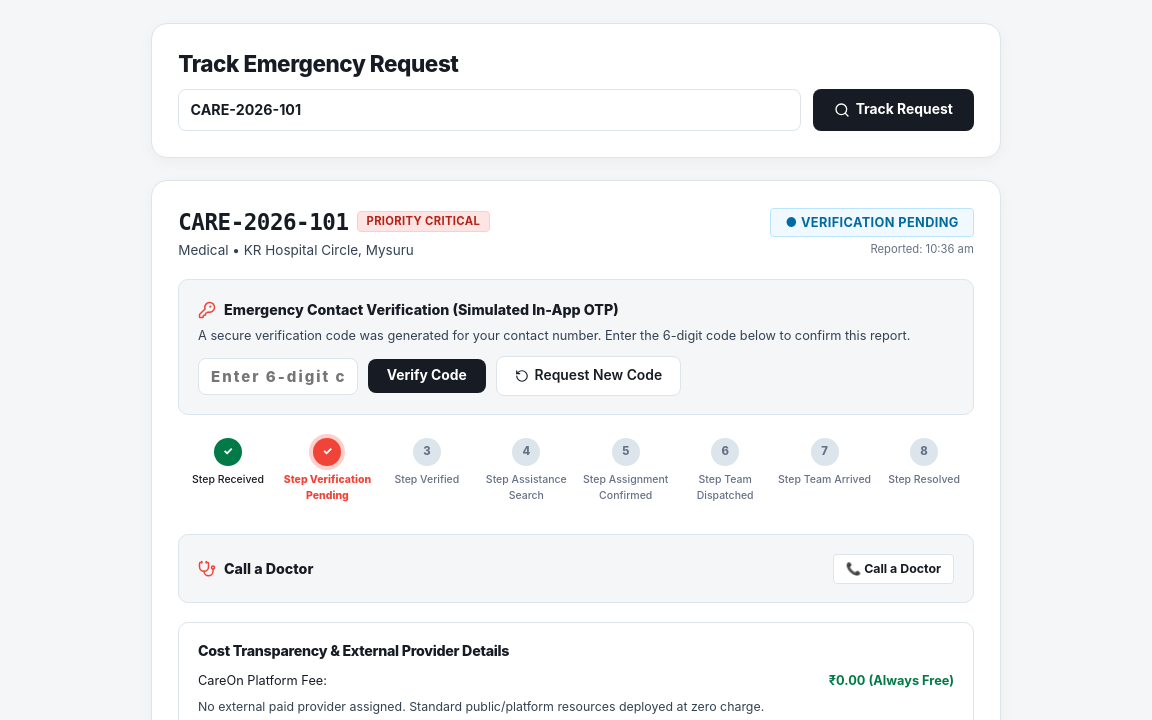
Test case: Stage 6 — Citizen Experience: Simulated OTP, Doctor Callbacks & Helpline › allows requesting a fresh simulated verification code via requestIncidentOtp
Check: the text "Emergency Contact Verification (Simulated In-App OTP)" is shown, box [224, 299, 619, 321]
Click the button "Request New Code". click: (588,376)
box: [496, 356, 681, 396]
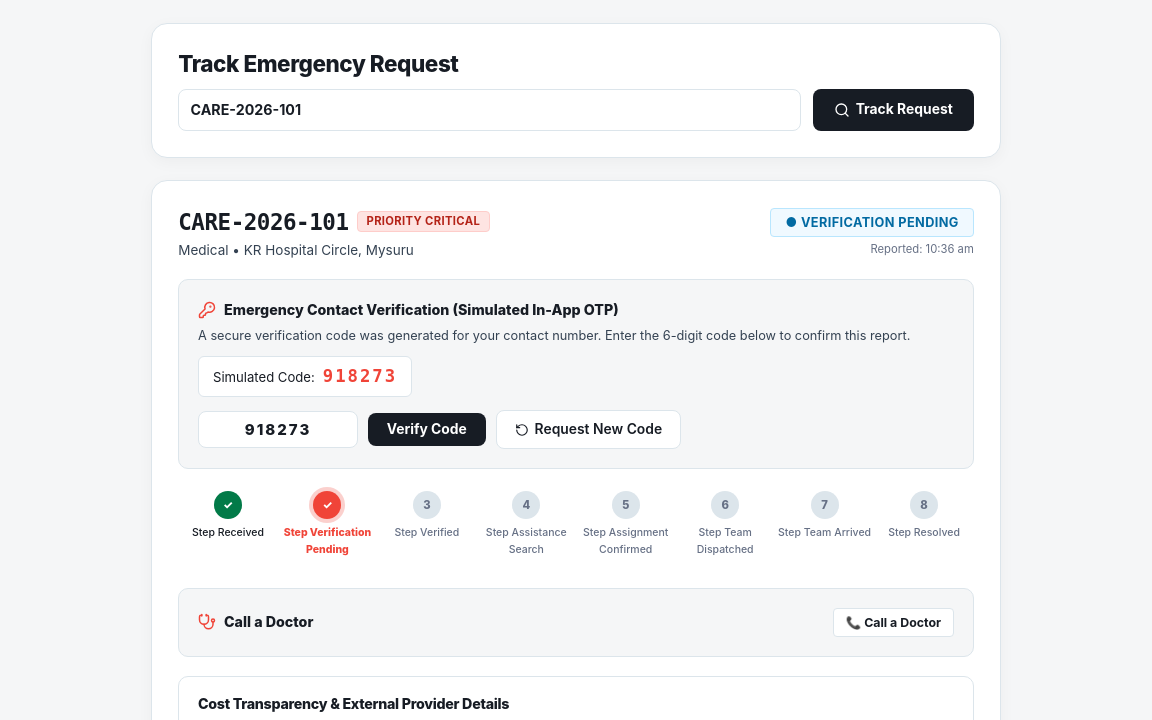
Check: the text "918273" is shown, box [323, 363, 397, 390]
